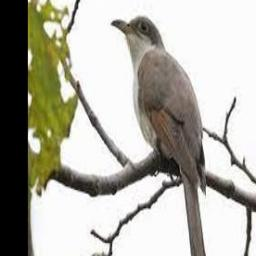Cuckoo: (110, 16, 209, 256)
